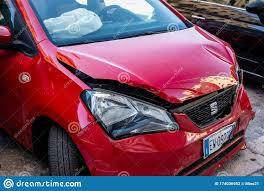bonnet-dent: (71, 30, 243, 105)
front-bumper-dent: (78, 132, 215, 176)
